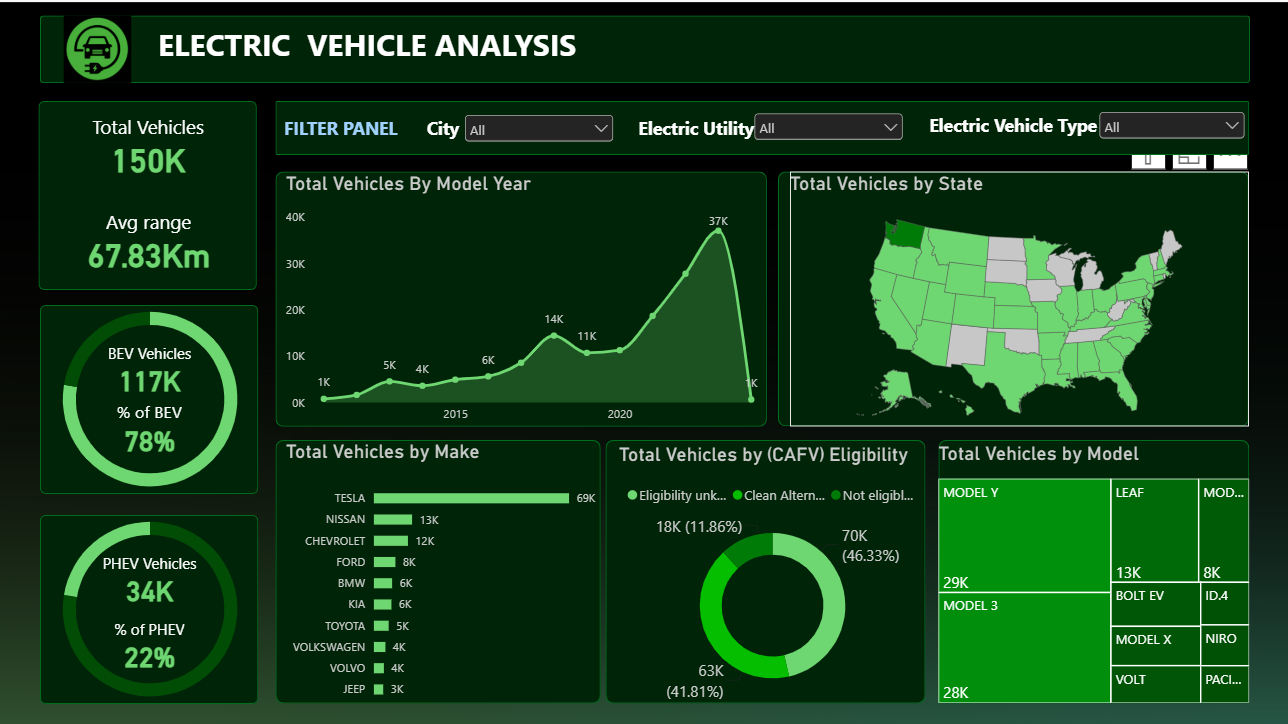

Layout of this report page (visuals, bound fields, positions):
{"tool":"powerbi","page":{"name":"Page 1","canvas":[1920,1080],"ordinal":0},"visuals":[{"type":"shape","box":[321.2,167.3,1280.4,71.4],"z":1},{"type":"textbox","box":[421.2,175,492.3,57.7],"z":2},{"type":"shape","box":[319.6,257.1,231,200],"z":3},{"type":"cardVisual","fields":{"Data":["Electric_Vehicle_Population_Data.Total Vehicles"]},"box":[346.4,257.1,178.6,80.4],"z":4},{"type":"cardVisual","fields":{"Data":["Electric_Vehicle_Population_Data.Avg range"]},"box":[310.7,357.1,250,100],"z":5},{"type":"shape","box":[321.4,473.2,231,200],"z":6},{"type":"donutChart","fields":{"Category":["Electric_Vehicle_Population_Data.Electric Vehicle Type"],"Y":["Electric_Vehicle_Population_Data.Total Vehicles"]},"box":[292.9,457.1,287,231],"z":8},{"type":"shape","box":[321.4,694.6,231,200],"z":9},{"type":"cardVisual","fields":{"Data":["Electric_Vehicle_Population_Data.Bev Vehicles"]},"box":[348.2,498.2,178.6,103.6],"z":10},{"type":"cardVisual","fields":{"Data":["Electric_Vehicle_Population_Data.% of BEV"]},"box":[348.2,560.7,178.6,82.1],"z":11},{"type":"donutChart","fields":{"Category":["Electric_Vehicle_Population_Data.Electric Vehicle Type"],"Y":["Electric_Vehicle_Population_Data.Total Vehicles"]},"box":[292.9,678.6,287,231],"z":12},{"type":"cardVisual","fields":{"Data":["Electric_Vehicle_Population_Data.PHEV Vehicles"]},"box":[348.2,721.4,178.6,103.6],"z":13},{"type":"cardVisual","fields":{"Data":["Electric_Vehicle_Population_Data.% of PHEV"]},"box":[348.2,791.1,178.6,103.6],"z":14},{"type":"shape","box":[569.2,615.4,344.2,278.8],"z":15},{"type":"shape","box":[569.6,332.1,520,270],"z":18},{"type":"areaChart","title":"Total Vehicles By Model Year","fields":{"Category":["Electric_Vehicle_Population_Data.Model Year"],"Y":["Electric_Vehicle_Population_Data.Total Vehicles"]},"box":[580.4,332.1,505.4,269.6],"z":19},{"type":"shape","box":[1101.8,332.1,498.2,269.6],"z":20},{"type":"shapeMap","fields":{"Category":["Electric_Vehicle_Population_Data.State"],"Value":["Electric_Vehicle_Population_Data.Total Vehicles"]},"box":[1114.3,332.1,485.7,269.6],"z":21},{"type":"shape","box":[569.2,257.7,1030.4,57.1],"z":22},{"type":"barChart","fields":{"Category":["Electric_Vehicle_Population_Data.Make"],"Y":["Electric_Vehicle_Population_Data.Total Vehicles"]},"box":[580.8,615.4,332.7,278.8],"z":23},{"type":"shape","box":[919.2,615.4,338.5,278.8],"z":24},{"type":"donutChart","title":"Total Vehicles by (CAFV) Eligibility","fields":{"Category":["Electric_Vehicle_Population_Data.Clean Alternative Fuel Vehicle (CAFV) Eligibility"],"Y":["Electric_Vehicle_Population_Data.Total Vehicles"]},"box":[932.7,619.2,325,275],"z":25},{"type":"shape","box":[1271.2,615.4,328.8,278.8],"z":26},{"type":"treemap","fields":{"Group":["Electric_Vehicle_Population_Data.Model"],"Values":["Electric_Vehicle_Population_Data.Total Vehicles"]},"box":[1271.2,617.3,328.8,276.9],"z":27},{"type":"textbox","box":[550,267.3,182.7,38.5],"z":28},{"type":"slicer","fields":{"Values":["Electric_Vehicle_Population_Data.City"]},"box":[765.4,267.3,167.3,42.3],"z":29},{"type":"textbox","box":[715.4,273.1,67.3,38.5],"z":30},{"type":"slicer","fields":{"Values":["Electric_Vehicle_Population_Data.Electric Utility"]},"box":[1071.2,265.4,167.3,42.3],"z":31},{"type":"textbox","box":[932.7,273.1,163.5,26.9],"z":32},{"type":"textbox","box":[1251.9,269.2,196.2,48.1],"z":33},{"type":"slicer","fields":{"Values":["Electric_Vehicle_Population_Data.Electric Vehicle Type"]},"box":[1436.5,263.5,163.5,42.3],"z":34},{"type":"image","box":[311.5,167.3,140.4,71.2],"z":35}]}

Visuals, with their boxes in screenshot pixels (x1, y1, x2, y2), scaled from the page's 1920x1080 canvas onto the 1288x724 screenshot:
shape: Rect(215, 112, 1074, 160)
textbox: Rect(283, 117, 613, 156)
shape: Rect(214, 172, 369, 306)
cardVisual - Electric_Vehicle_Population_Data.Total Vehicles: Rect(232, 172, 352, 226)
cardVisual - Electric_Vehicle_Population_Data.Avg range: Rect(208, 239, 376, 306)
shape: Rect(216, 317, 371, 451)
donutChart - Electric_Vehicle_Population_Data.Electric Vehicle Type x Electric_Vehicle_Population_Data.Total Vehicles: Rect(196, 306, 389, 461)
shape: Rect(216, 466, 371, 600)
cardVisual - Electric_Vehicle_Population_Data.Bev Vehicles: Rect(234, 334, 353, 403)
cardVisual - Electric_Vehicle_Population_Data.% of BEV: Rect(234, 376, 353, 431)
donutChart - Electric_Vehicle_Population_Data.Electric Vehicle Type x Electric_Vehicle_Population_Data.Total Vehicles: Rect(196, 455, 389, 610)
cardVisual - Electric_Vehicle_Population_Data.PHEV Vehicles: Rect(234, 484, 353, 553)
cardVisual - Electric_Vehicle_Population_Data.% of PHEV: Rect(234, 530, 353, 600)
shape: Rect(382, 413, 613, 599)
shape: Rect(382, 223, 731, 404)
"Total Vehicles By Model Year" areaChart: Rect(389, 223, 728, 403)
shape: Rect(739, 223, 1073, 403)
shapeMap - Electric_Vehicle_Population_Data.State x Electric_Vehicle_Population_Data.Total Vehicles: Rect(748, 223, 1073, 403)
shape: Rect(382, 173, 1073, 211)
barChart - Electric_Vehicle_Population_Data.Make x Electric_Vehicle_Population_Data.Total Vehicles: Rect(390, 413, 613, 599)
shape: Rect(617, 413, 844, 599)
"Total Vehicles by (CAFV) Eligibility" donutChart: Rect(626, 415, 844, 599)
shape: Rect(853, 413, 1073, 599)
treemap - Electric_Vehicle_Population_Data.Model x Electric_Vehicle_Population_Data.Total Vehicles: Rect(853, 414, 1073, 599)
textbox: Rect(369, 179, 492, 205)
slicer - Electric_Vehicle_Population_Data.City: Rect(513, 179, 626, 208)
textbox: Rect(480, 183, 525, 209)
slicer - Electric_Vehicle_Population_Data.Electric Utility: Rect(719, 178, 831, 206)
textbox: Rect(626, 183, 735, 201)
textbox: Rect(840, 180, 971, 213)
slicer - Electric_Vehicle_Population_Data.Electric Vehicle Type: Rect(964, 177, 1073, 205)
image: Rect(209, 112, 303, 160)
